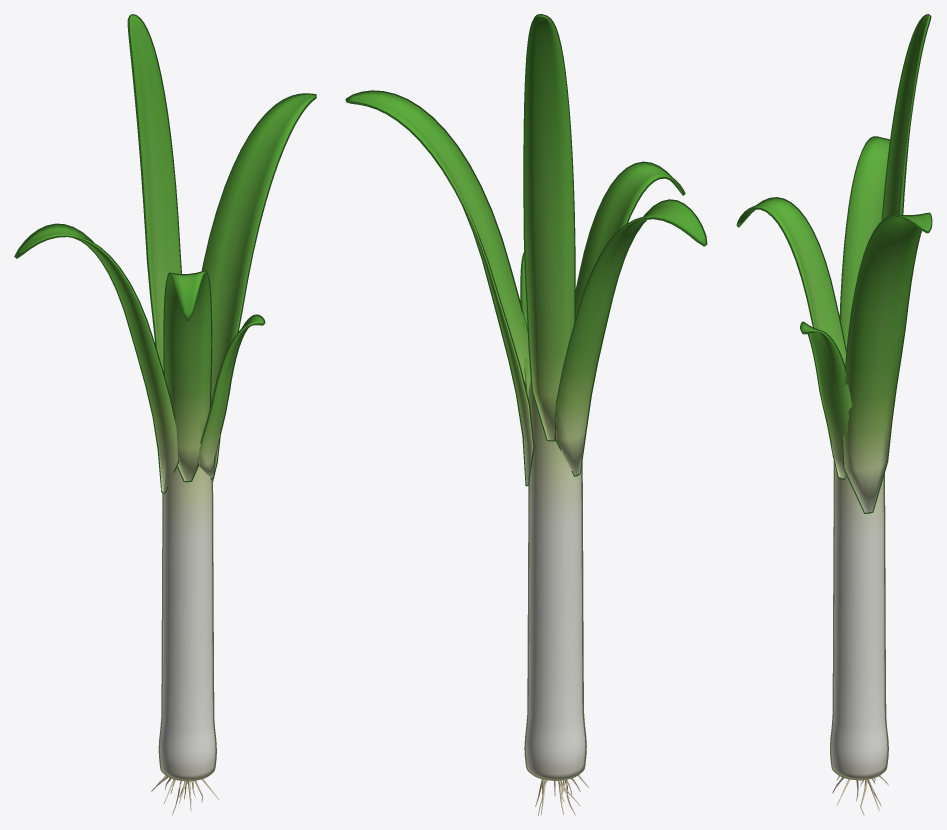
The model's file is leek.glb.
3 views of the same model, side by side, from view 1: azimuth 30°, elevation 25°; view 2: azimuth 150°, elevation 25°; view 3: azimuth 270°, elevation 25° (orthographic). The views are drawn at different scales.
Visible parts, largest first — view 1: leek; view 2: leek; view 3: leek.
Boxes of the visible parts, x1,y1,x2,y2 form: leek: (14, 14, 316, 815); leek: (345, 14, 707, 815); leek: (736, 14, 932, 815).
Size of the model in its own units: 0.3779 by 0.8763 by 0.1983.
